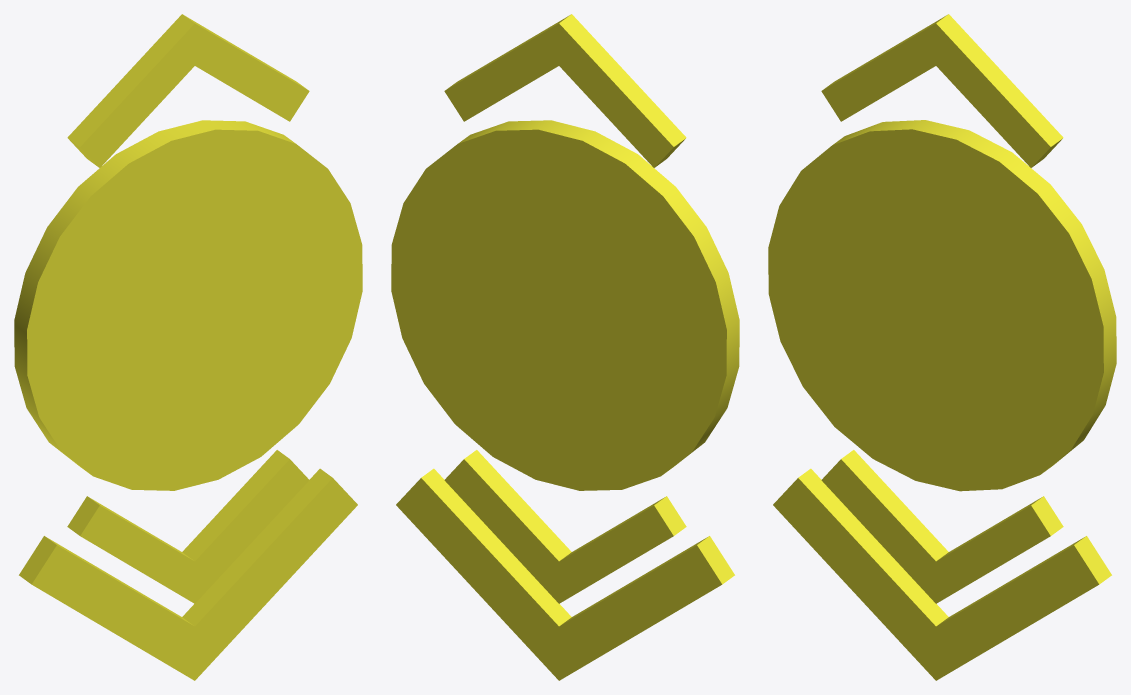
Rendered from buff_gravity.fbx.
The picture shows the model from 3 angles, left to right: view 1: azimuth 30°, elevation 25°; view 2: azimuth 150°, elevation 25°; view 3: azimuth 330°, elevation 25°; orthographic projection.
Parts seen in each view (by area): view 1: Group4, Group2, Group3, Group5; view 2: Group4, Group2, Group3, Group5; view 3: Group4, Group2, Group3, Group5.
Boxes of the visible parts, bbox=[...] form: Group4: bbox=[14, 120, 362, 490]; Group2: bbox=[19, 468, 357, 680]; Group3: bbox=[67, 14, 309, 167]; Group5: bbox=[67, 450, 309, 603]; Group4: bbox=[391, 120, 739, 490]; Group2: bbox=[396, 468, 734, 680]; Group3: bbox=[444, 14, 686, 167]; Group5: bbox=[444, 450, 686, 603]; Group4: bbox=[768, 120, 1116, 491]; Group2: bbox=[773, 468, 1111, 680]; Group3: bbox=[821, 14, 1063, 167]; Group5: bbox=[821, 450, 1063, 603].
Size of the model in its own units: 1.34 by 2.51 by 0.0888.
